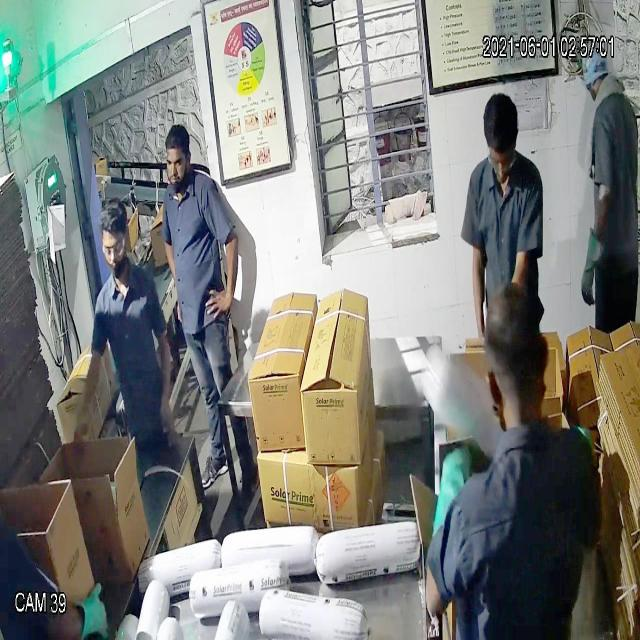glasses: (94, 228, 136, 268)
